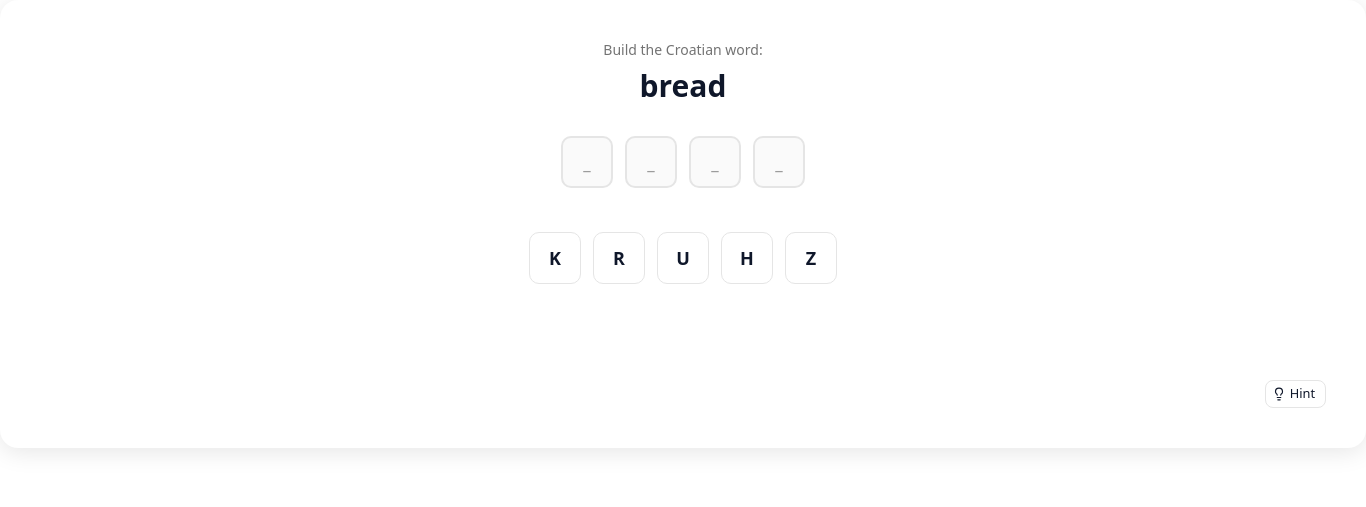
Scenario: LetterPickExercise › marks a wrong-letter tap as an error and shows the "with errors" state after completion
The image size is (1366, 507).
# 'z' is not the expected first letter ('k') — should not place a letter, just flash an error.
Click the button "Z". click: click(811, 258)
box: [785,232,837,284]
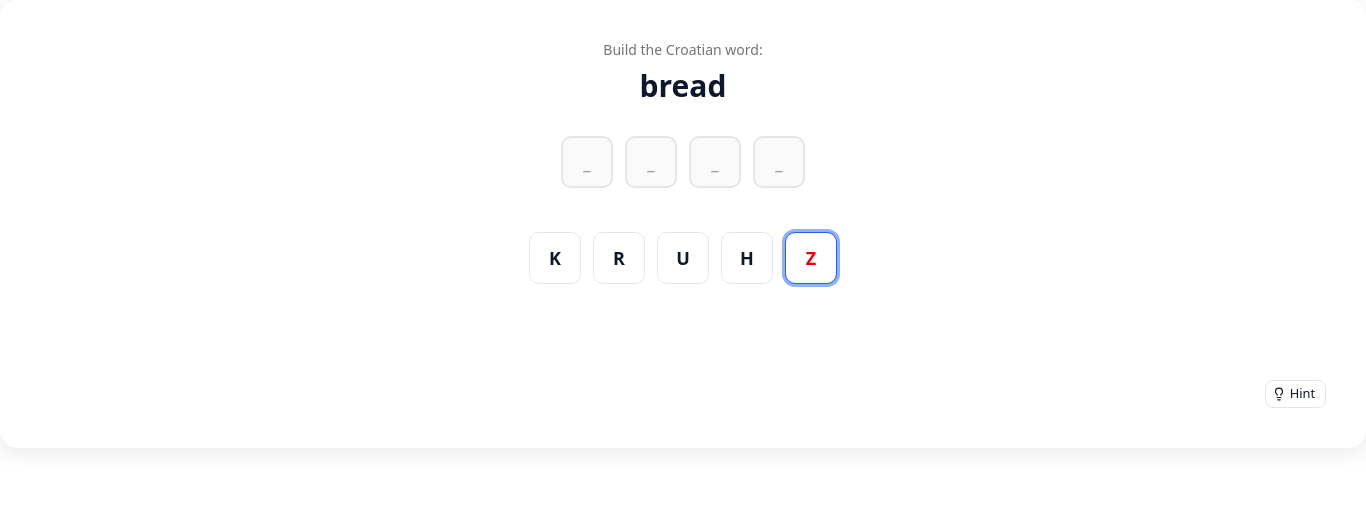
Click the button "K". click: click(555, 258)
box: [529,232,581,284]
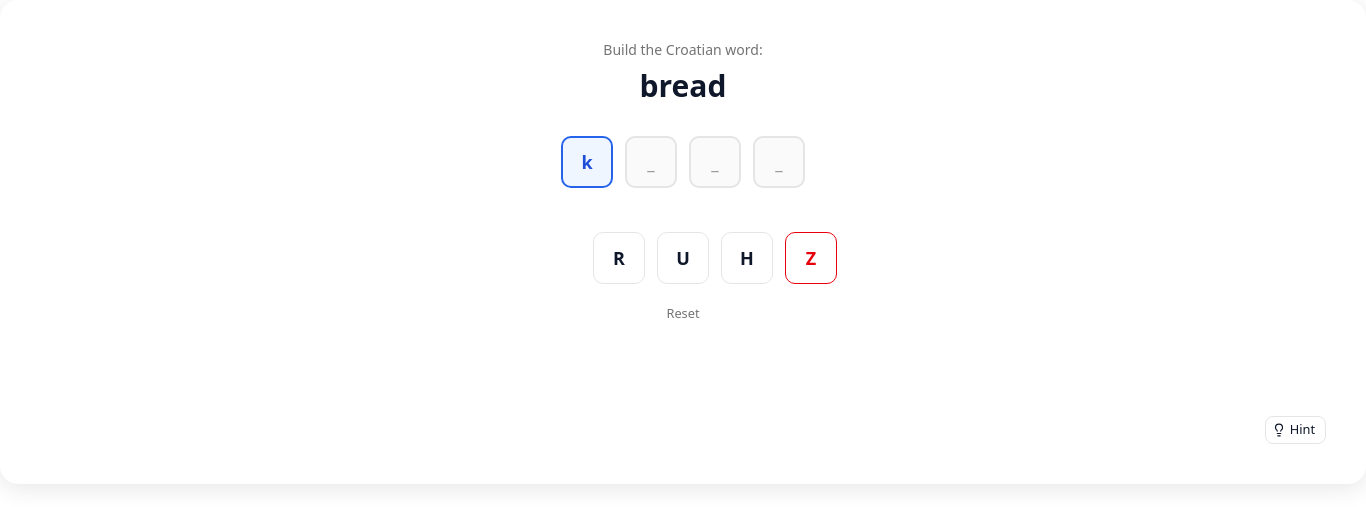
Click the button "R". click: click(619, 258)
box: [593,232,645,284]
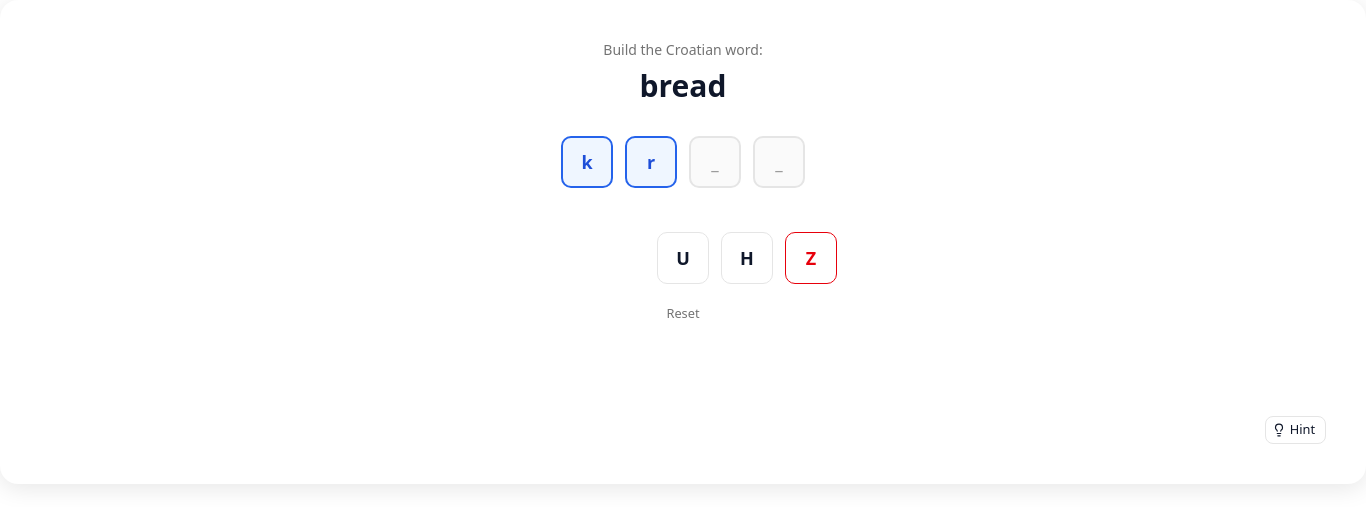
Click the button "U". click: click(683, 258)
box: [657,232,709,284]
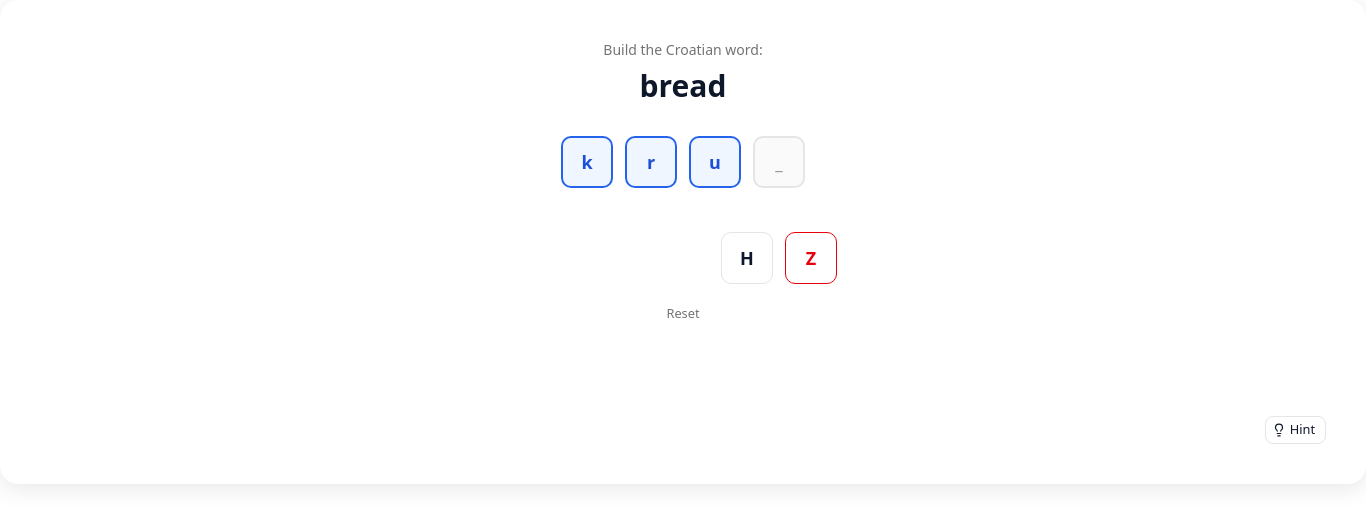
Click the button "H". click: click(747, 258)
box: [721,232,773,284]
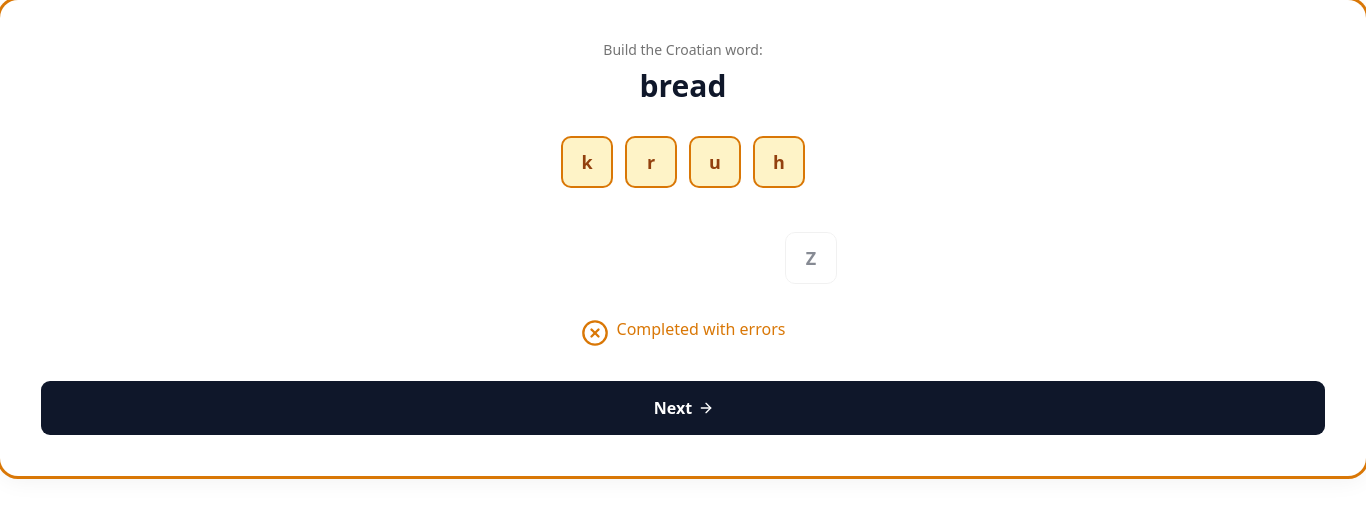
Expected: the text "Completed with errors" is shown, [616,317,786,341]
Expected: the button "Next" is shown, [40,380,1326,436]
